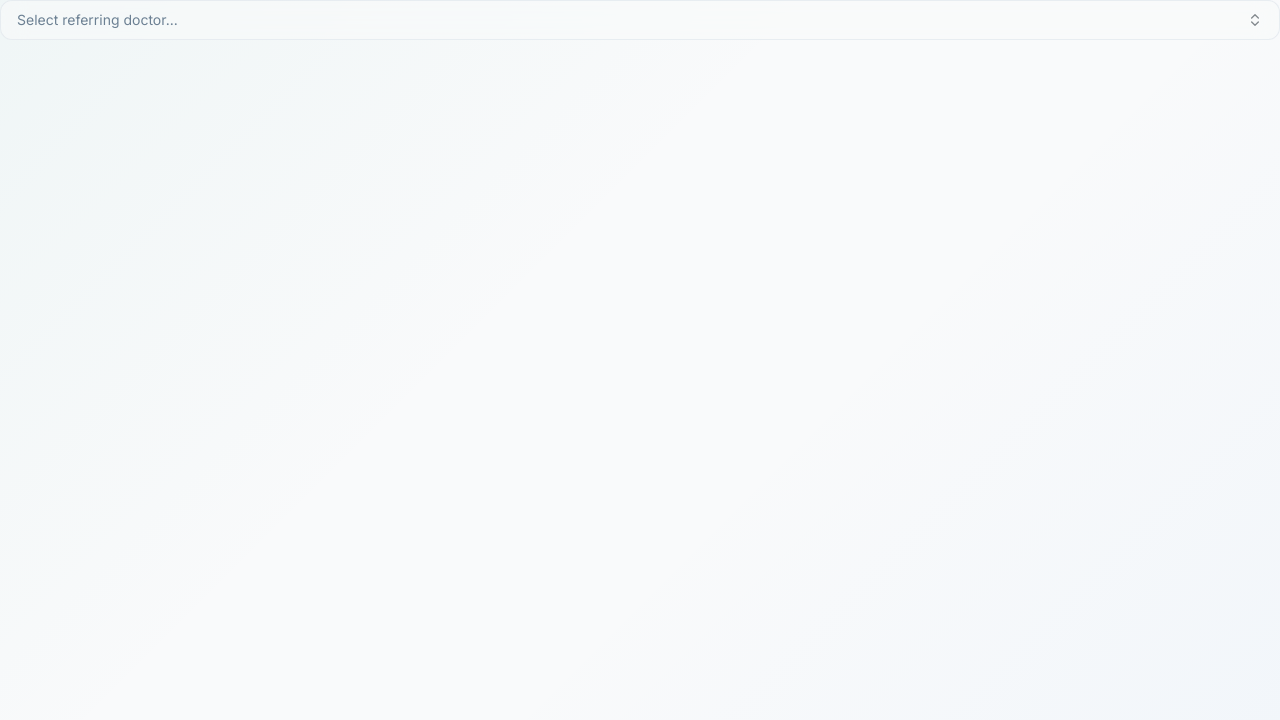
Test case: ReferringDoctorPicker › finds an external doctor by name
Click the dropdown at (97, 20), box [0,0,1279,40]
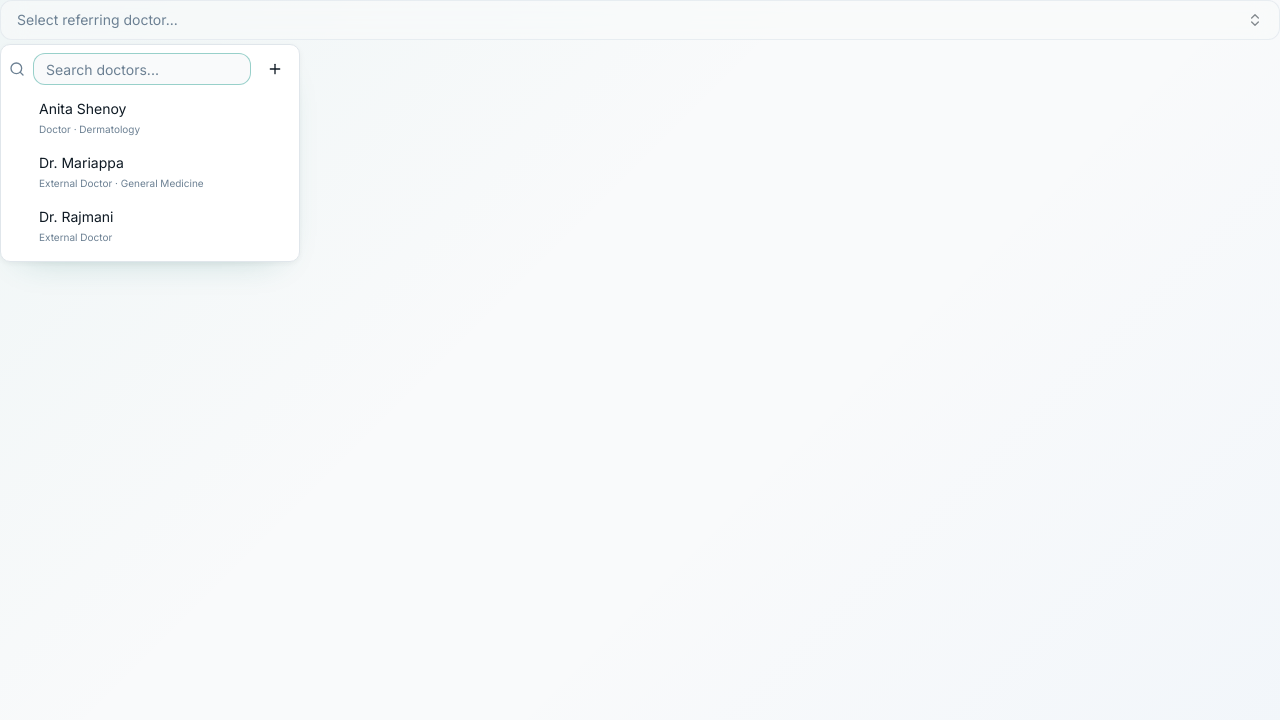
Expected: the field with placeholder "Search doctors..." is shown
Expected: the text "Dr. Mariappa" is shown, [39,154,124,171]
Type "mariappa" into the field with placeholder "Search doctors..." at (142, 69), box [33,53,251,85]
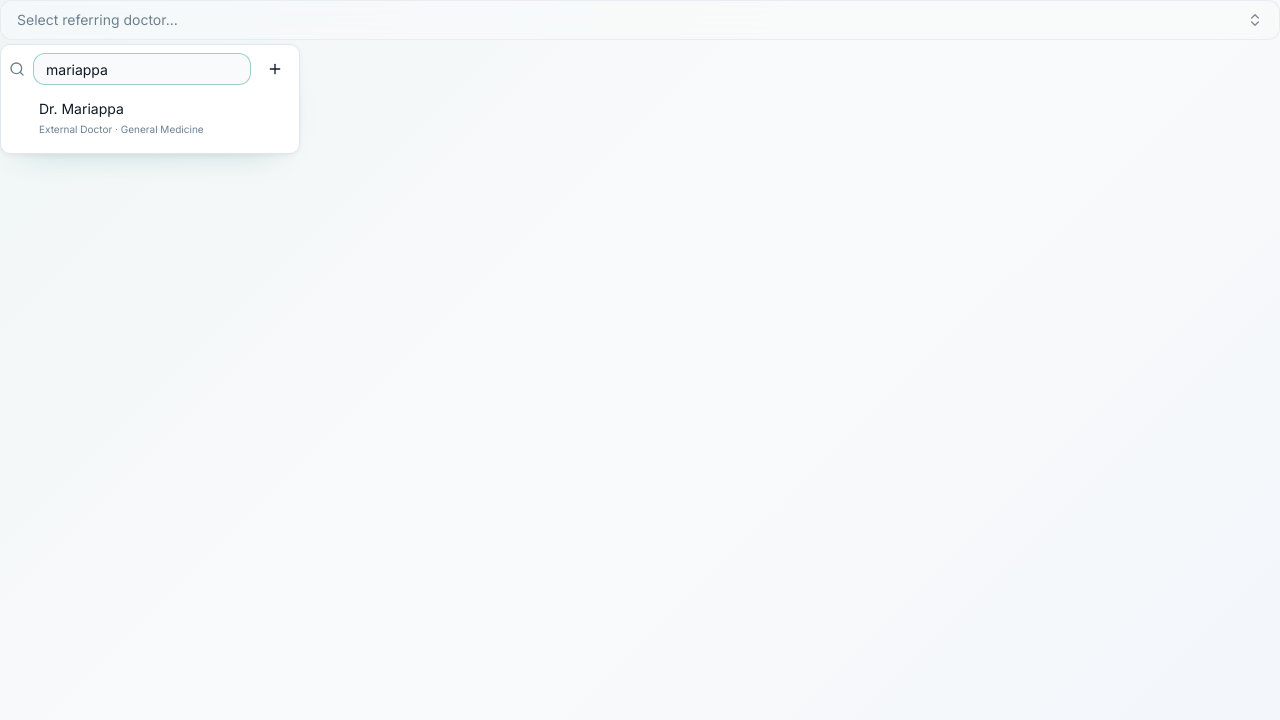
Expected: the text "Dr. Mariappa" is shown, [39,100,124,117]
Expected: the button "Dr. Rajmani" is gone
Expected: the button "Anita Shenoy" is gone
